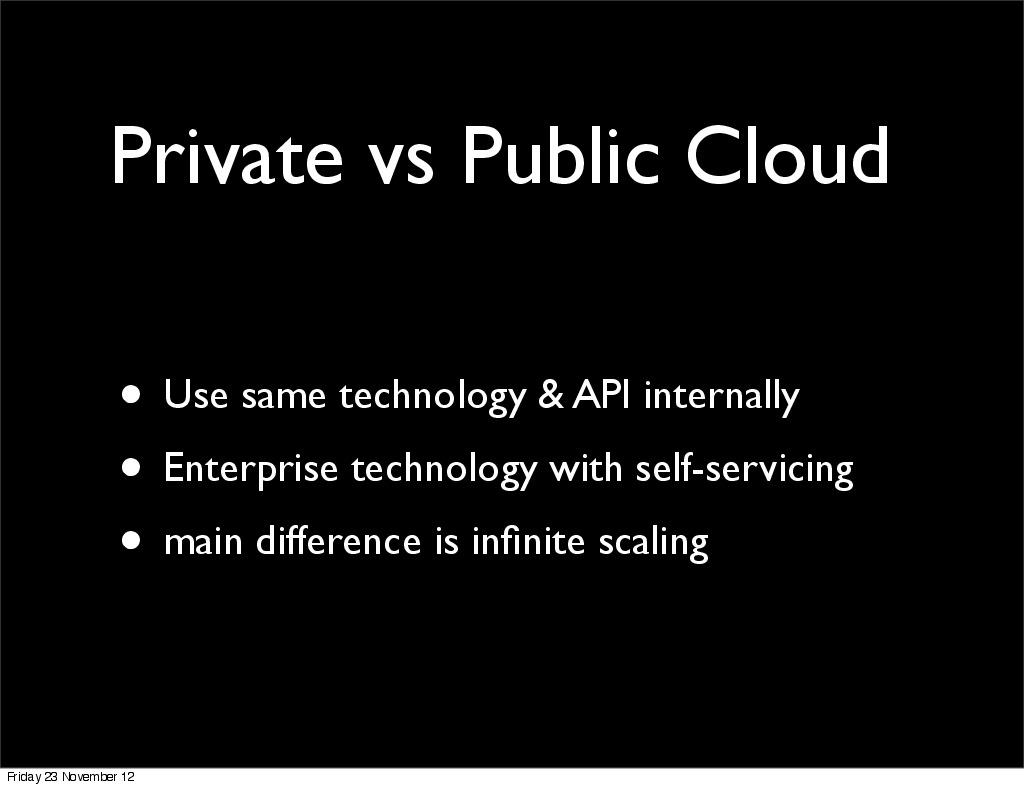paragraph: (101, 329, 897, 596)
title: (87, 91, 913, 218)
